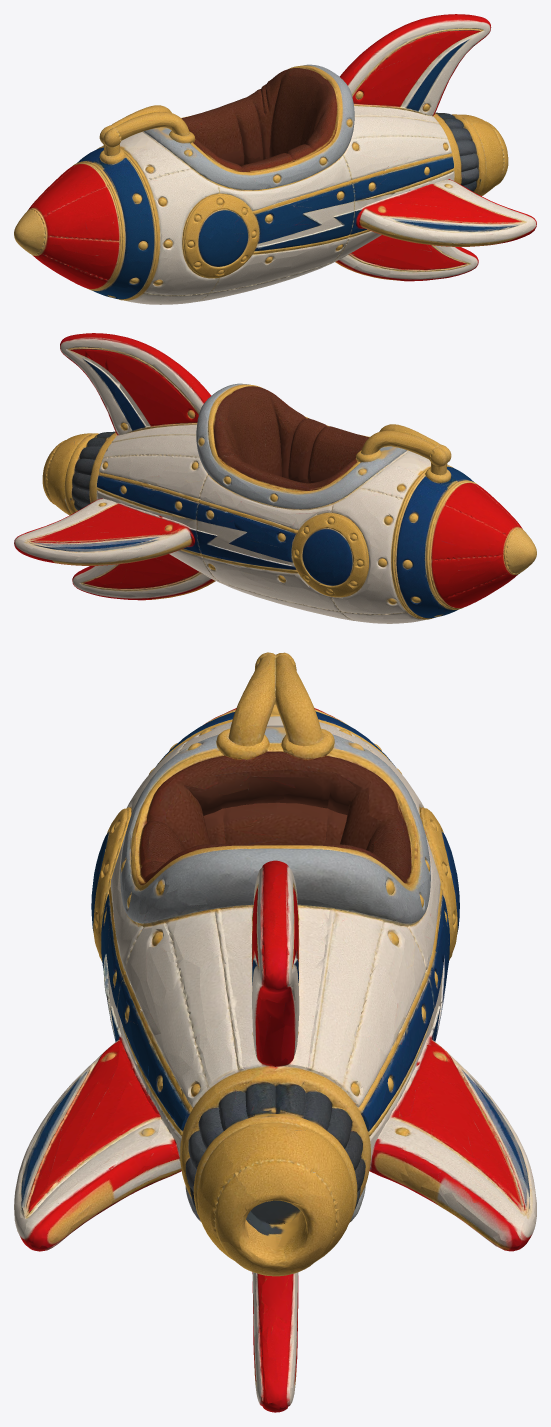
File: rocket.glb
3 views of the same model, one above another, from view 1: azimuth 30°, elevation 25°; view 2: azimuth 150°, elevation 25°; view 3: azimuth 270°, elevation 25° (orthographic). The views are drawn at different scales.
Bounding box in the file's own units: 1.9 × 0.9898 × 0.9518.
1 material, 1 textured.
